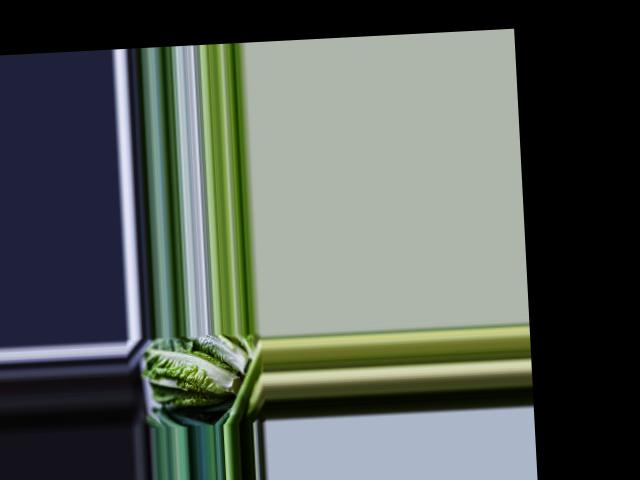lettuce: (141, 343, 243, 410)
